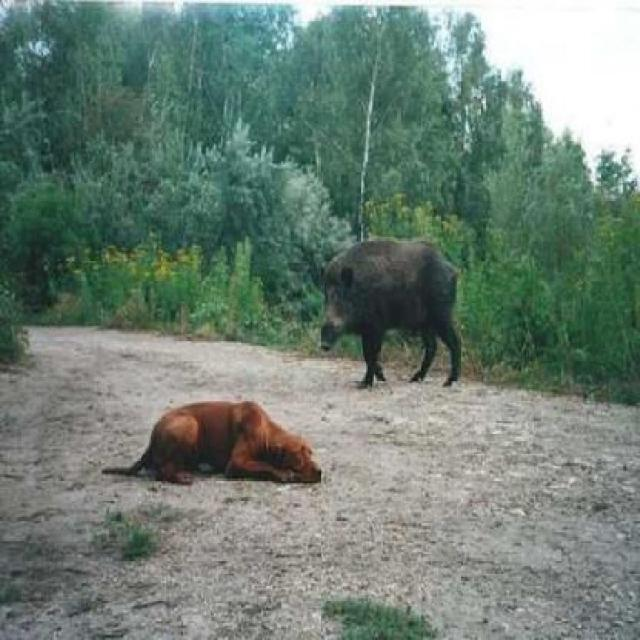pig: (274, 229, 507, 370)
